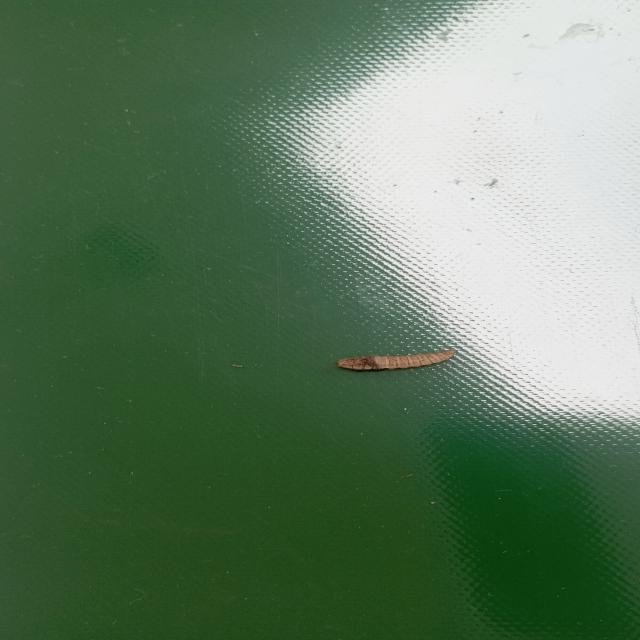Maggot: (335, 351, 456, 374)
